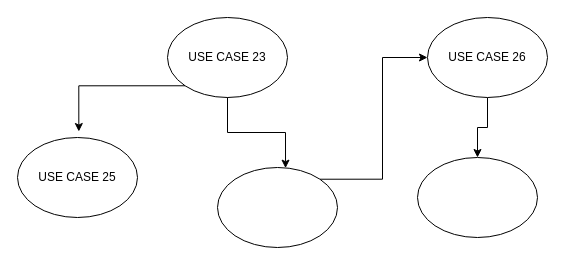
This 565x265 diagram has some shape labels left out. Here are the shapes that lost their labels. From the top down, the centre of each, then its label:
At (x=277, y=207): "USE CASE 24".
At (x=477, y=197): "USE CASE 27".
